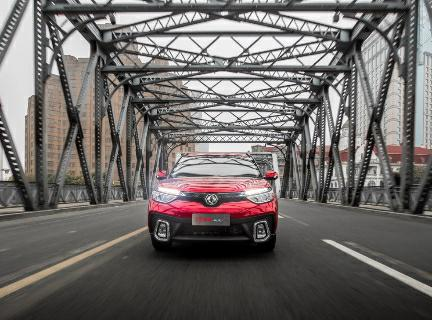东风风神-AX4: (143, 150, 286, 254)
